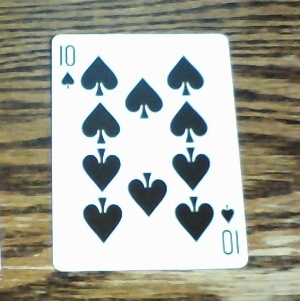card: (50, 32, 249, 269)
